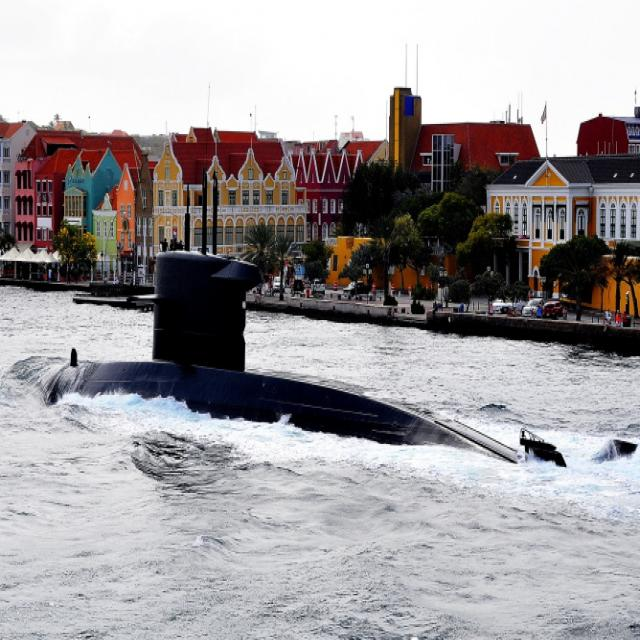submarine: (38, 113, 639, 474)
